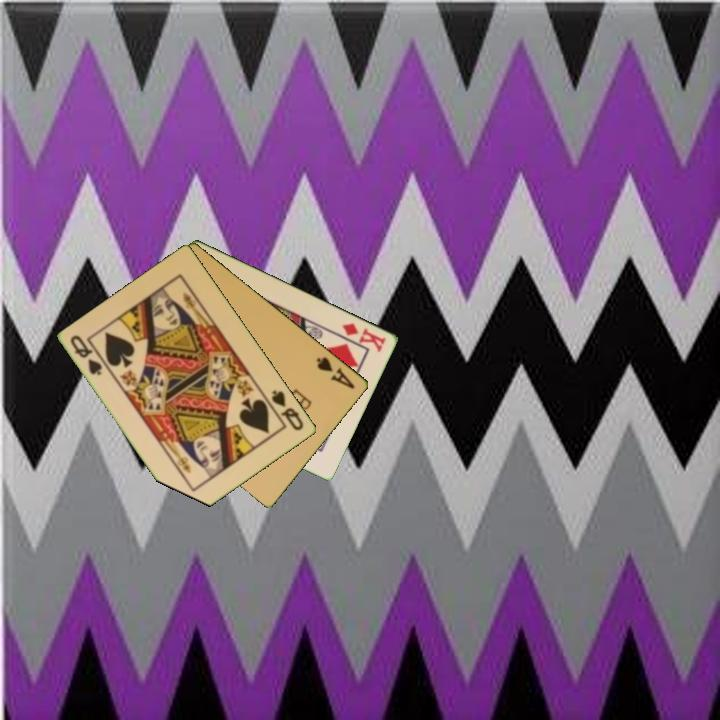As: (313, 353, 358, 392)
Kd: (339, 319, 389, 355)
Qs: (268, 386, 307, 434), (67, 331, 106, 378)
